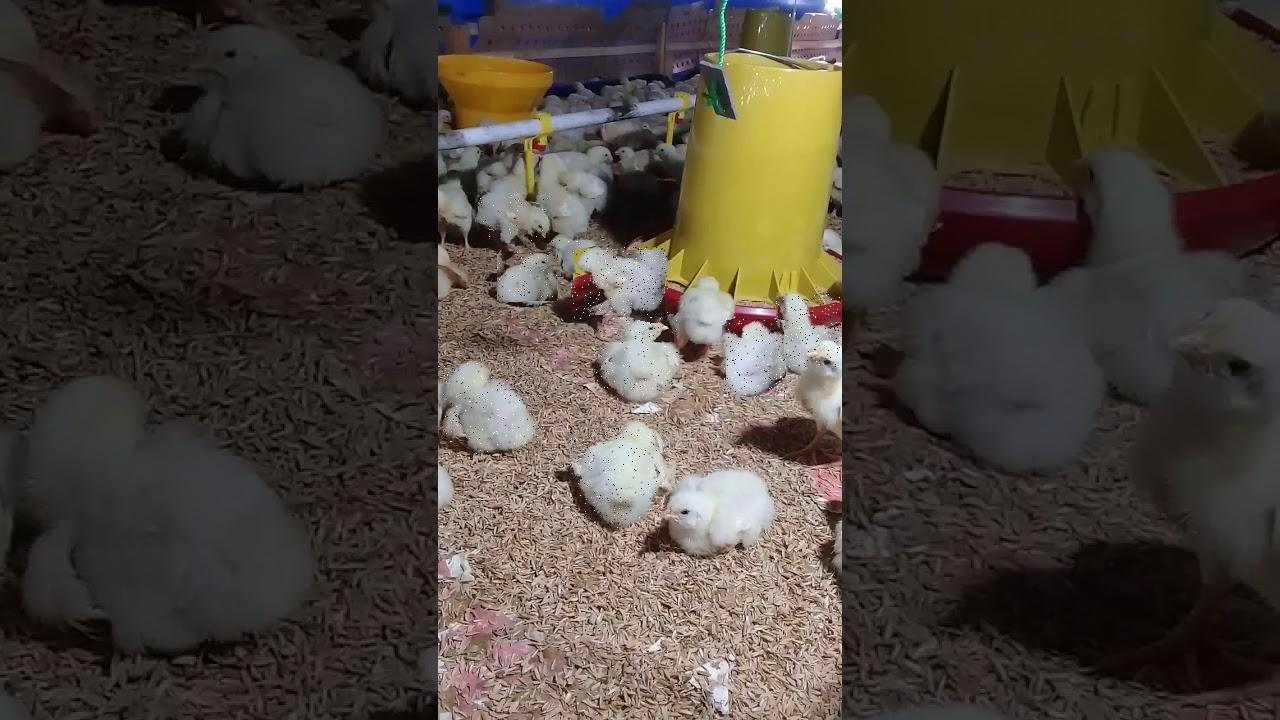chicken: (571, 418, 672, 531), (661, 464, 780, 559), (443, 361, 543, 455), (596, 316, 682, 403), (571, 248, 668, 320), (724, 320, 786, 399), (777, 294, 841, 368), (476, 195, 555, 247), (498, 252, 560, 302), (551, 233, 601, 276)
